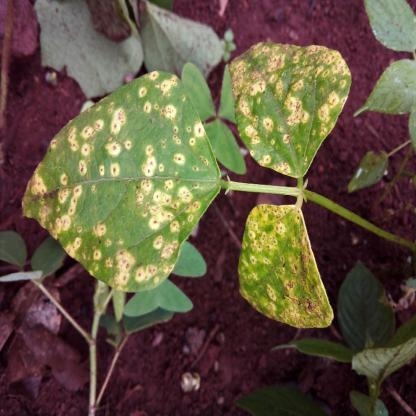Beans_Rust: (30, 69, 209, 291), (229, 43, 349, 182), (238, 203, 341, 333)
